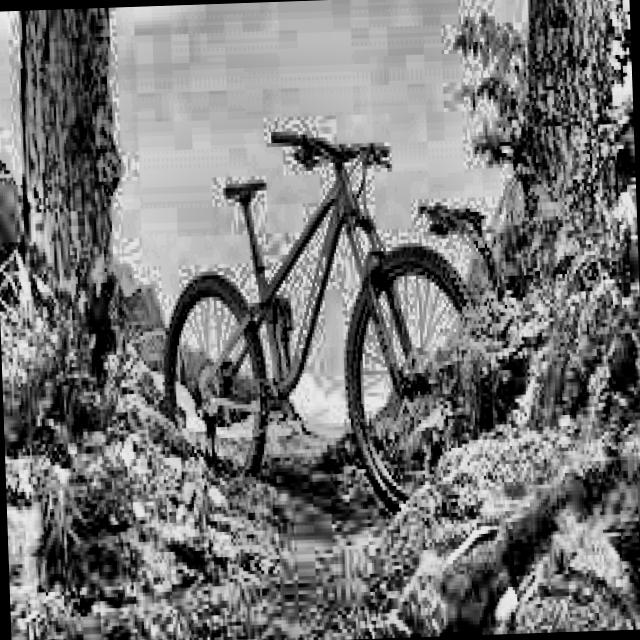bicycle: (154, 107, 493, 520)
